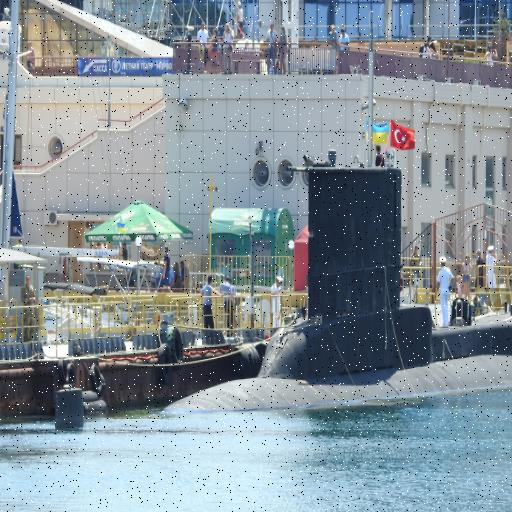submarine: (159, 161, 512, 418)
